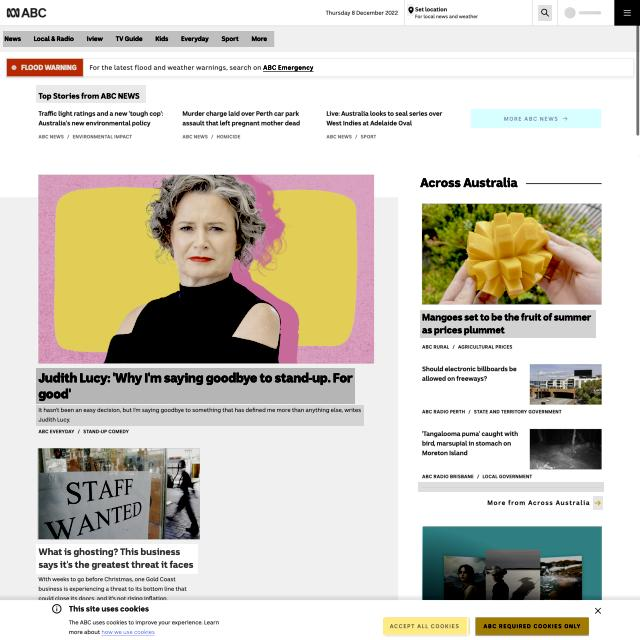CheckBox: (470, 106, 603, 131), (475, 617, 589, 636), (384, 618, 469, 635), (100, 628, 157, 639), (262, 62, 316, 73)
Input field: (36, 405, 364, 426)
RadioButton: (6, 58, 84, 78)
accordion: (0, 150, 638, 159), (418, 482, 604, 492), (422, 354, 607, 361), (421, 419, 605, 426), (316, 106, 323, 148), (174, 106, 178, 148), (462, 107, 466, 146)
breadcrumbs: (36, 368, 355, 404), (420, 310, 596, 338), (36, 544, 198, 574), (419, 169, 522, 194), (36, 85, 146, 103), (66, 602, 150, 616)
carousel: (538, 5, 552, 21), (593, 496, 603, 510), (622, 7, 633, 18), (592, 606, 604, 615), (407, 4, 414, 16)
copy: (38, 174, 374, 364), (422, 203, 602, 305), (37, 448, 200, 540), (423, 526, 602, 600)
date picker: (2, 4, 50, 20)
decoration: (3, 31, 276, 47), (619, 1, 637, 22)
